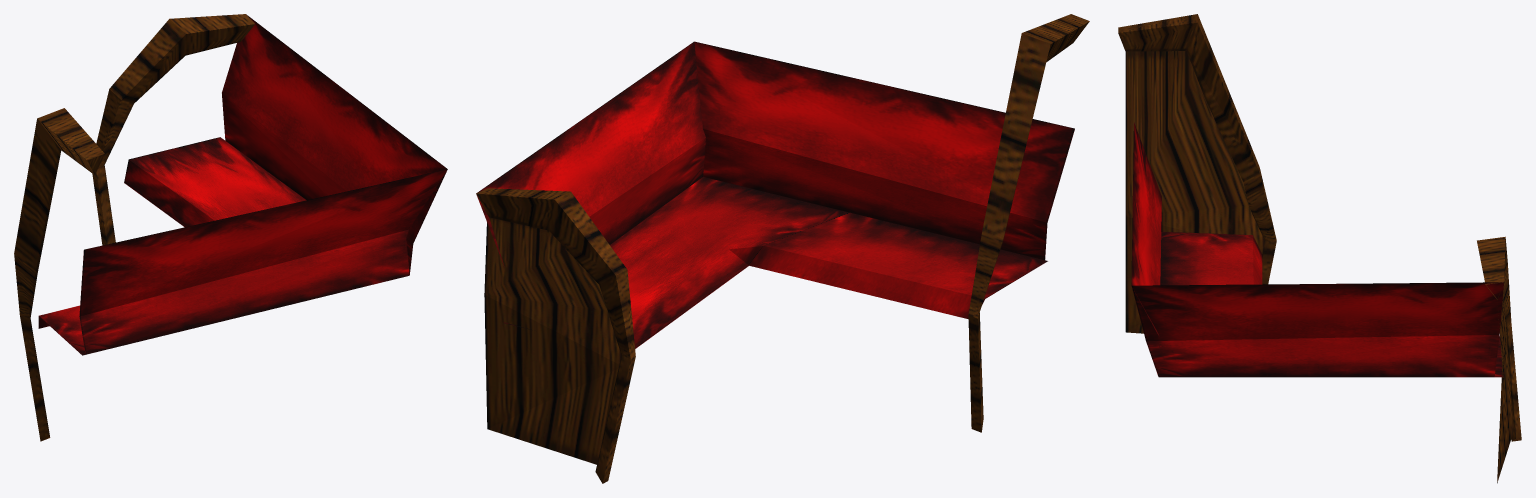
Rendered from Eckbank_996.glb.
3 renders of one model, left to right at view 1: azimuth 30°, elevation 25°; view 2: azimuth 150°, elevation 25°; view 3: azimuth 270°, elevation 25°, orthographic. The views are drawn at different scales.
Parts seen in each view (by area): view 1: pPlaneShape70, pPlaneShape71, pPlaneShape69, pTorusShape3, pTorusShape4; view 2: pPlaneShape70, pPlaneShape69, pPlaneShape73, pPlaneShape71, pTorusShape3, pTorusShape4; view 3: pPlaneShape71, pPlaneShape72, pTorusShape3, pPlaneShape69, pPlaneShape70, pTorusShape4, pPlaneShape73.
Boxes of the visible parts, <box> form: pPlaneShape70: <box>79,169,447,354</box>; pPlaneShape71: <box>222,14,447,274</box>; pPlaneShape69: <box>38,137,306,355</box>; pTorusShape3: <box>14,108,104,441</box>; pTorusShape4: <box>92,14,254,245</box>; pPlaneShape70: <box>694,41,1074,259</box>; pPlaneShape69: <box>504,177,1047,348</box>; pPlaneShape73: <box>484,217,621,464</box>; pPlaneShape71: <box>476,42,705,266</box>; pTorusShape3: <box>968,14,1089,432</box>; pTorusShape4: <box>476,188,635,483</box>; pPlaneShape71: <box>1131,282,1503,377</box>; pPlaneShape72: <box>1125,51,1264,333</box>; pTorusShape3: <box>1118,14,1276,284</box>; pPlaneShape69: <box>1160,232,1503,377</box>; pPlaneShape70: <box>1131,122,1161,362</box>; pTorusShape4: <box>1477,236,1521,441</box>; pPlaneShape73: <box>1497,301,1513,483</box>.
Size of the model in its own units: 0.24 by 0.2177 by 0.244.
7 materials, 7 textured.
